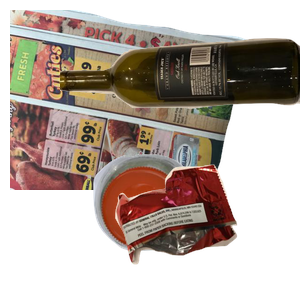glass: (60, 36, 300, 147)
paper: (10, 10, 250, 190)
plastic: (91, 152, 281, 300)
trash: (113, 162, 300, 300)
